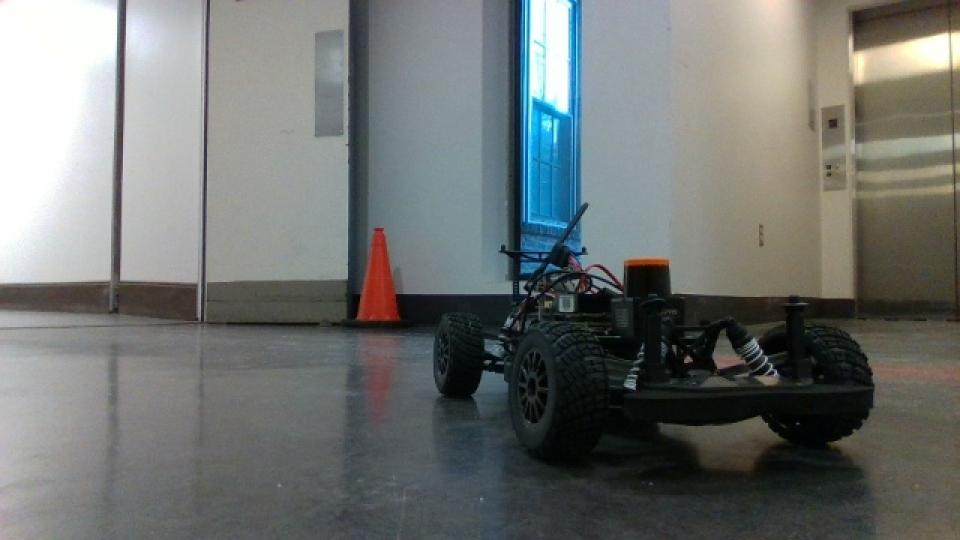car: (429, 200, 877, 464)
